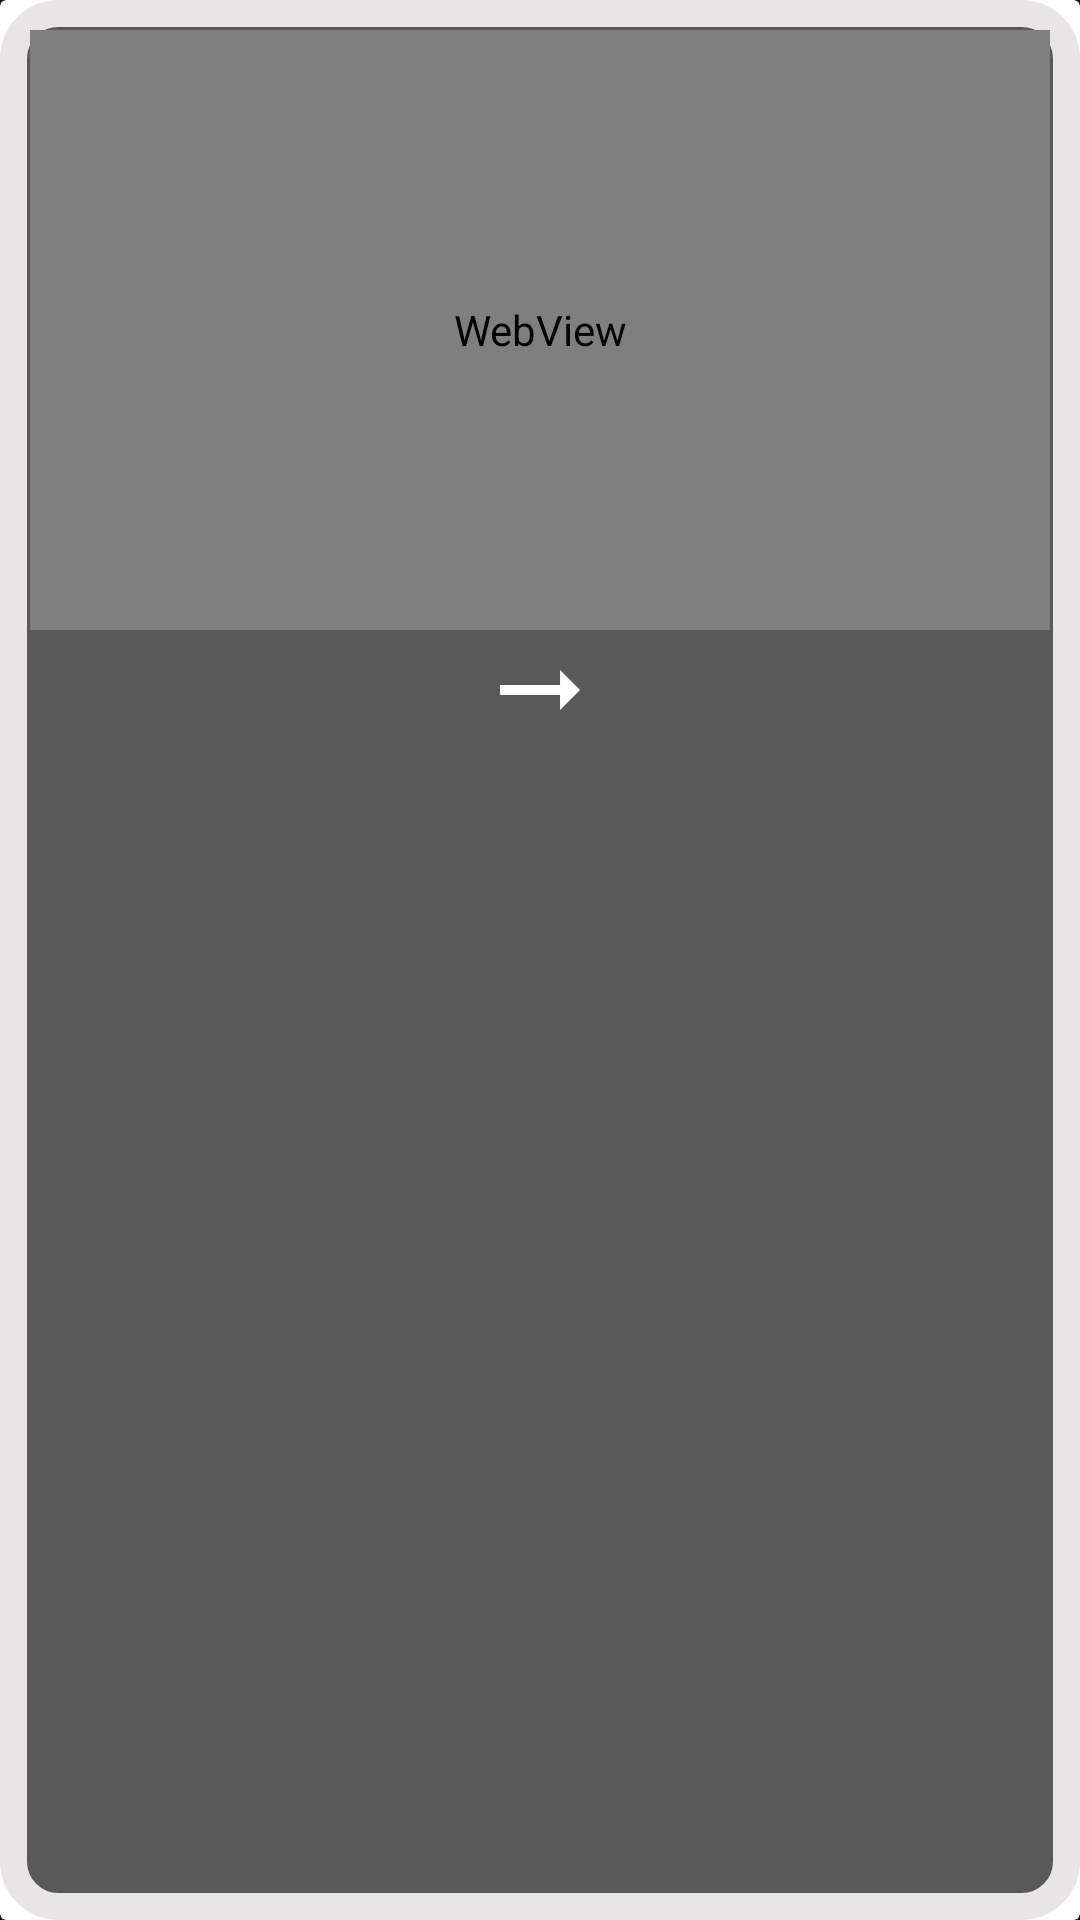

Screen size 1080x1920. Icon name, then its center in pixels as (x,y):
arrow right: (540,690)
